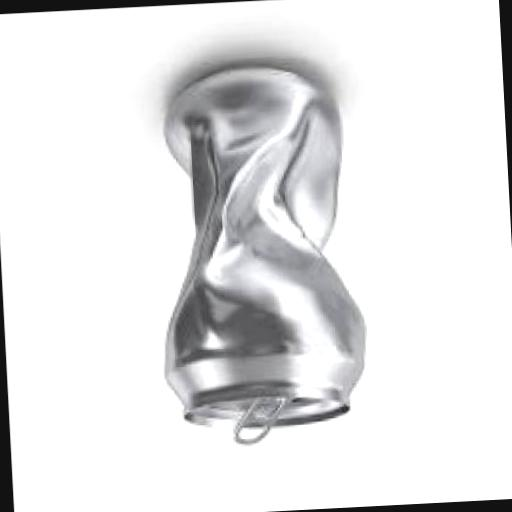metal: (149, 56, 372, 456)
